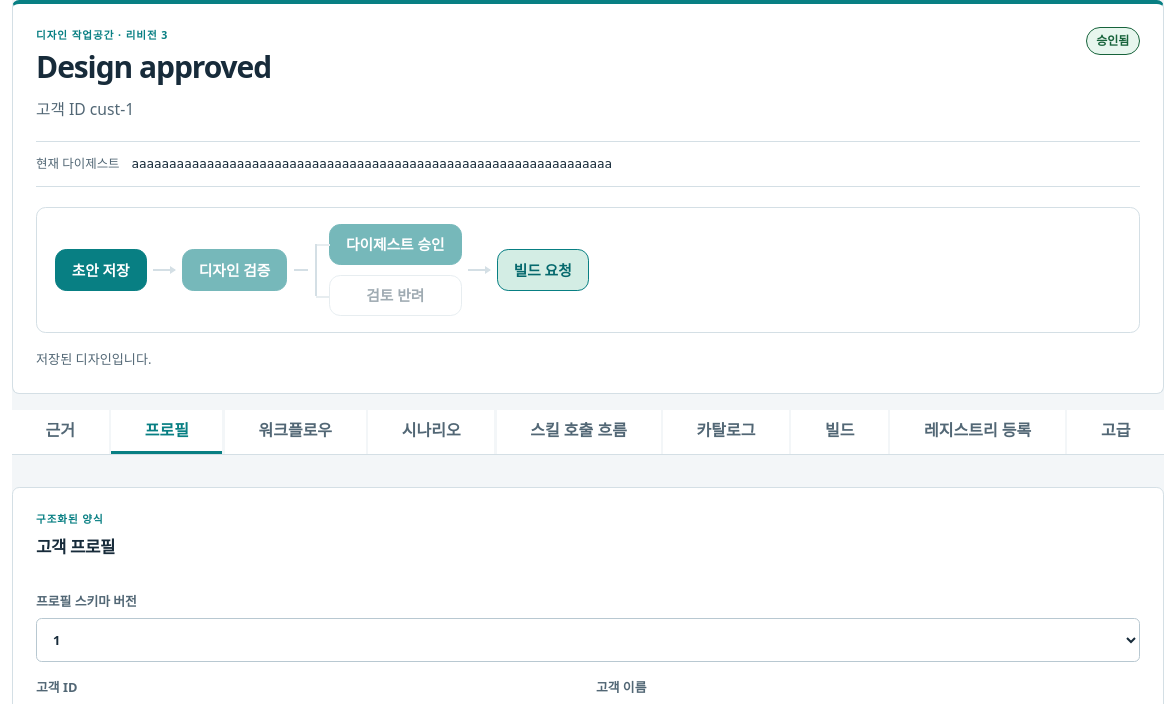
Test: StudioDesignPageContent › preserves successful queued build state when design refresh fails
The image size is (1176, 704).
Expected: the heading "Design approved" is shown, [36,50,271,83]
Click the button "빌드 요청" at coordinates (543, 270), box [497,249,589,291]
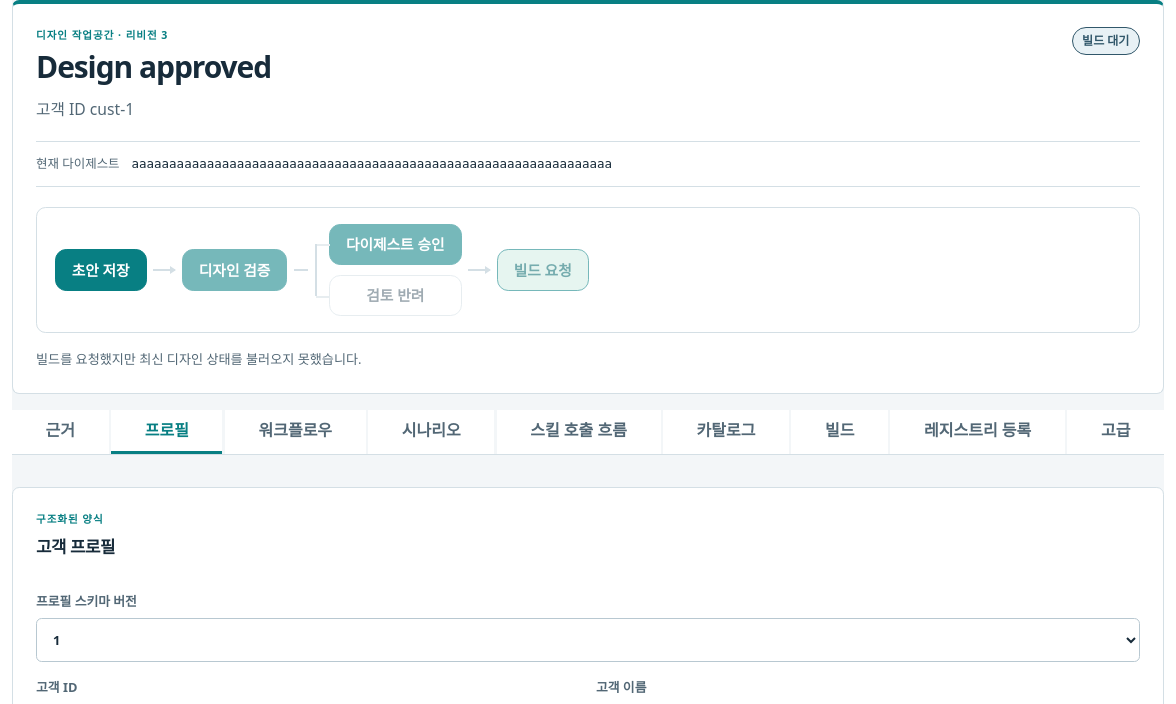
Now the text "빌드 대기" is shown, box [1072,27,1140,55]
Now the text "빌드를 요청했지만 최신 디자인 상태를 불러오지 못했습니다." is shown, box [36,350,362,368]
Now the button "빌드 요청" is disabled, box [497,249,589,291]
